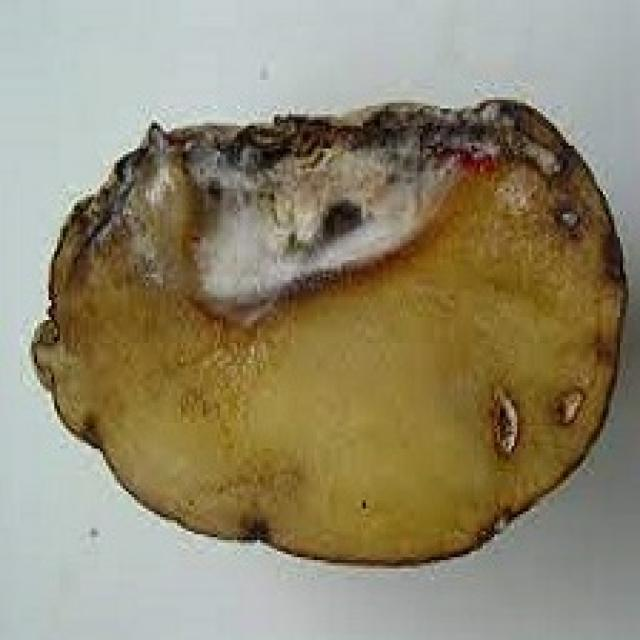Wet Waste: (132, 158, 568, 482)
